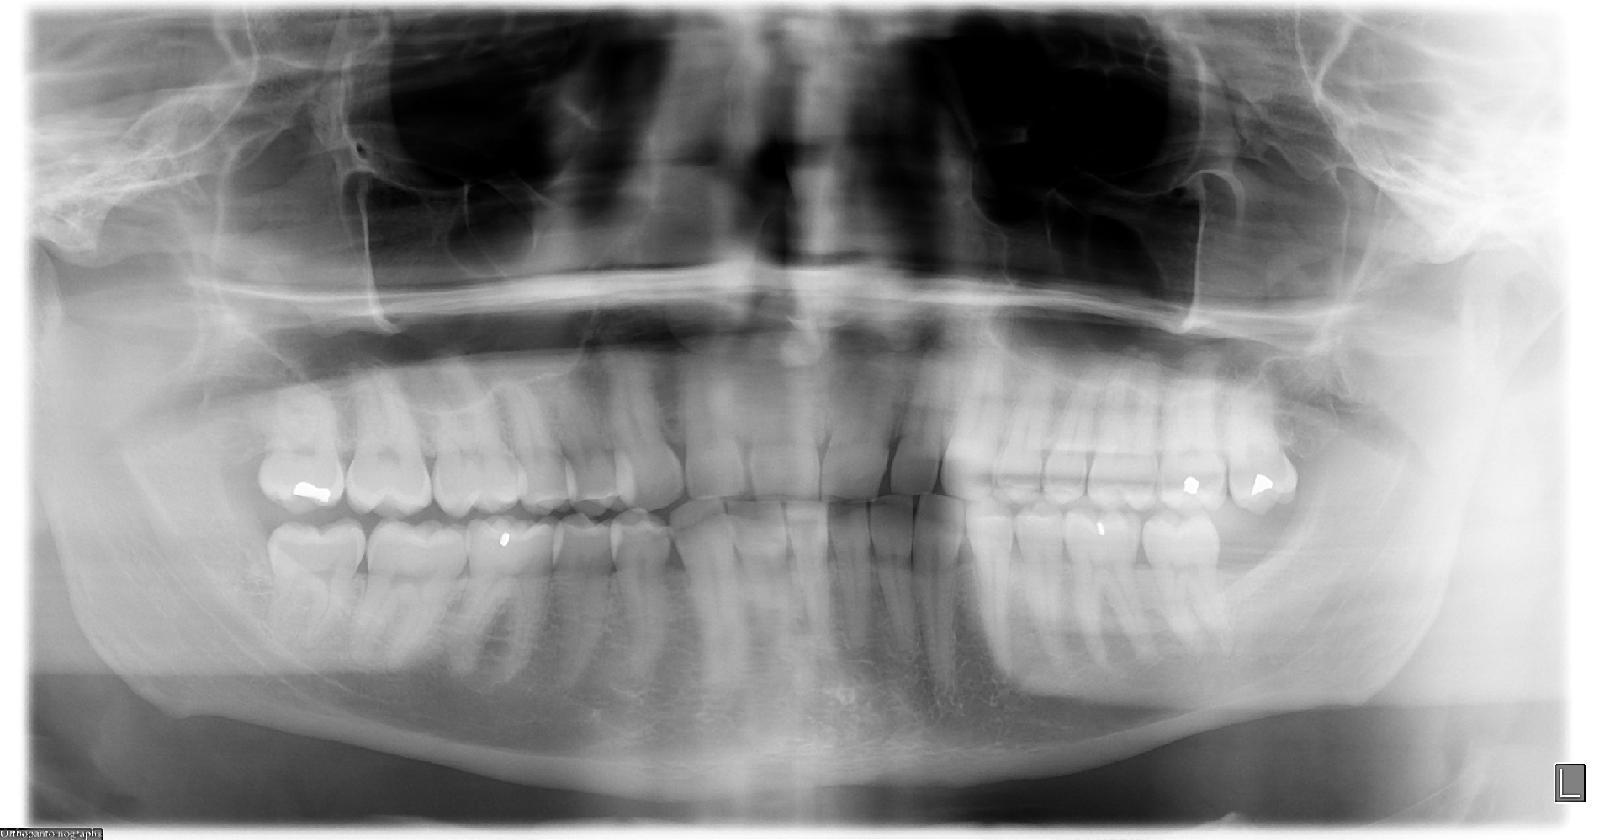Erupted: (258, 514, 373, 655)
